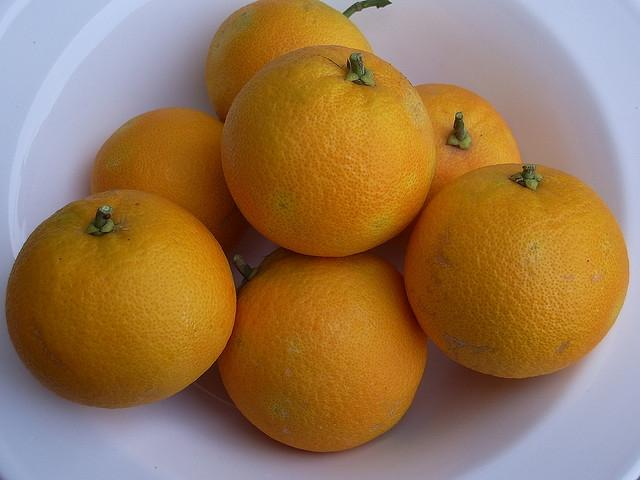orange: (5, 188, 237, 408), (404, 163, 630, 378), (222, 45, 435, 256), (217, 246, 428, 453), (388, 83, 522, 251), (205, 0, 375, 122), (90, 108, 238, 239)
